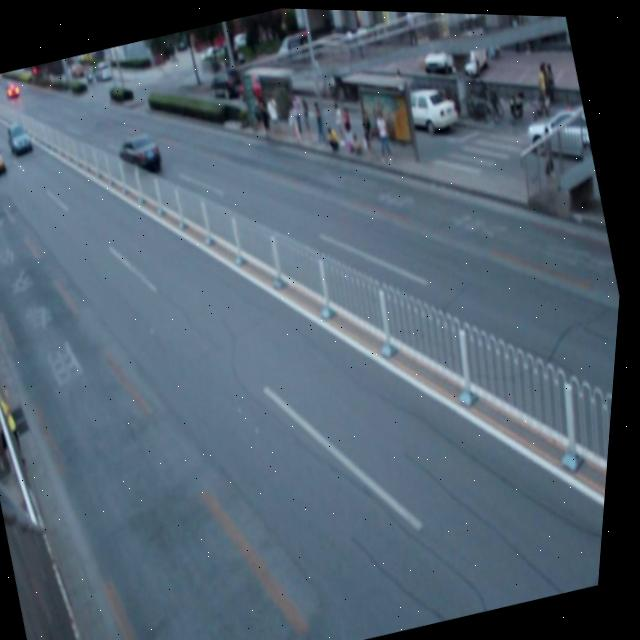car: (116, 126, 170, 182)
